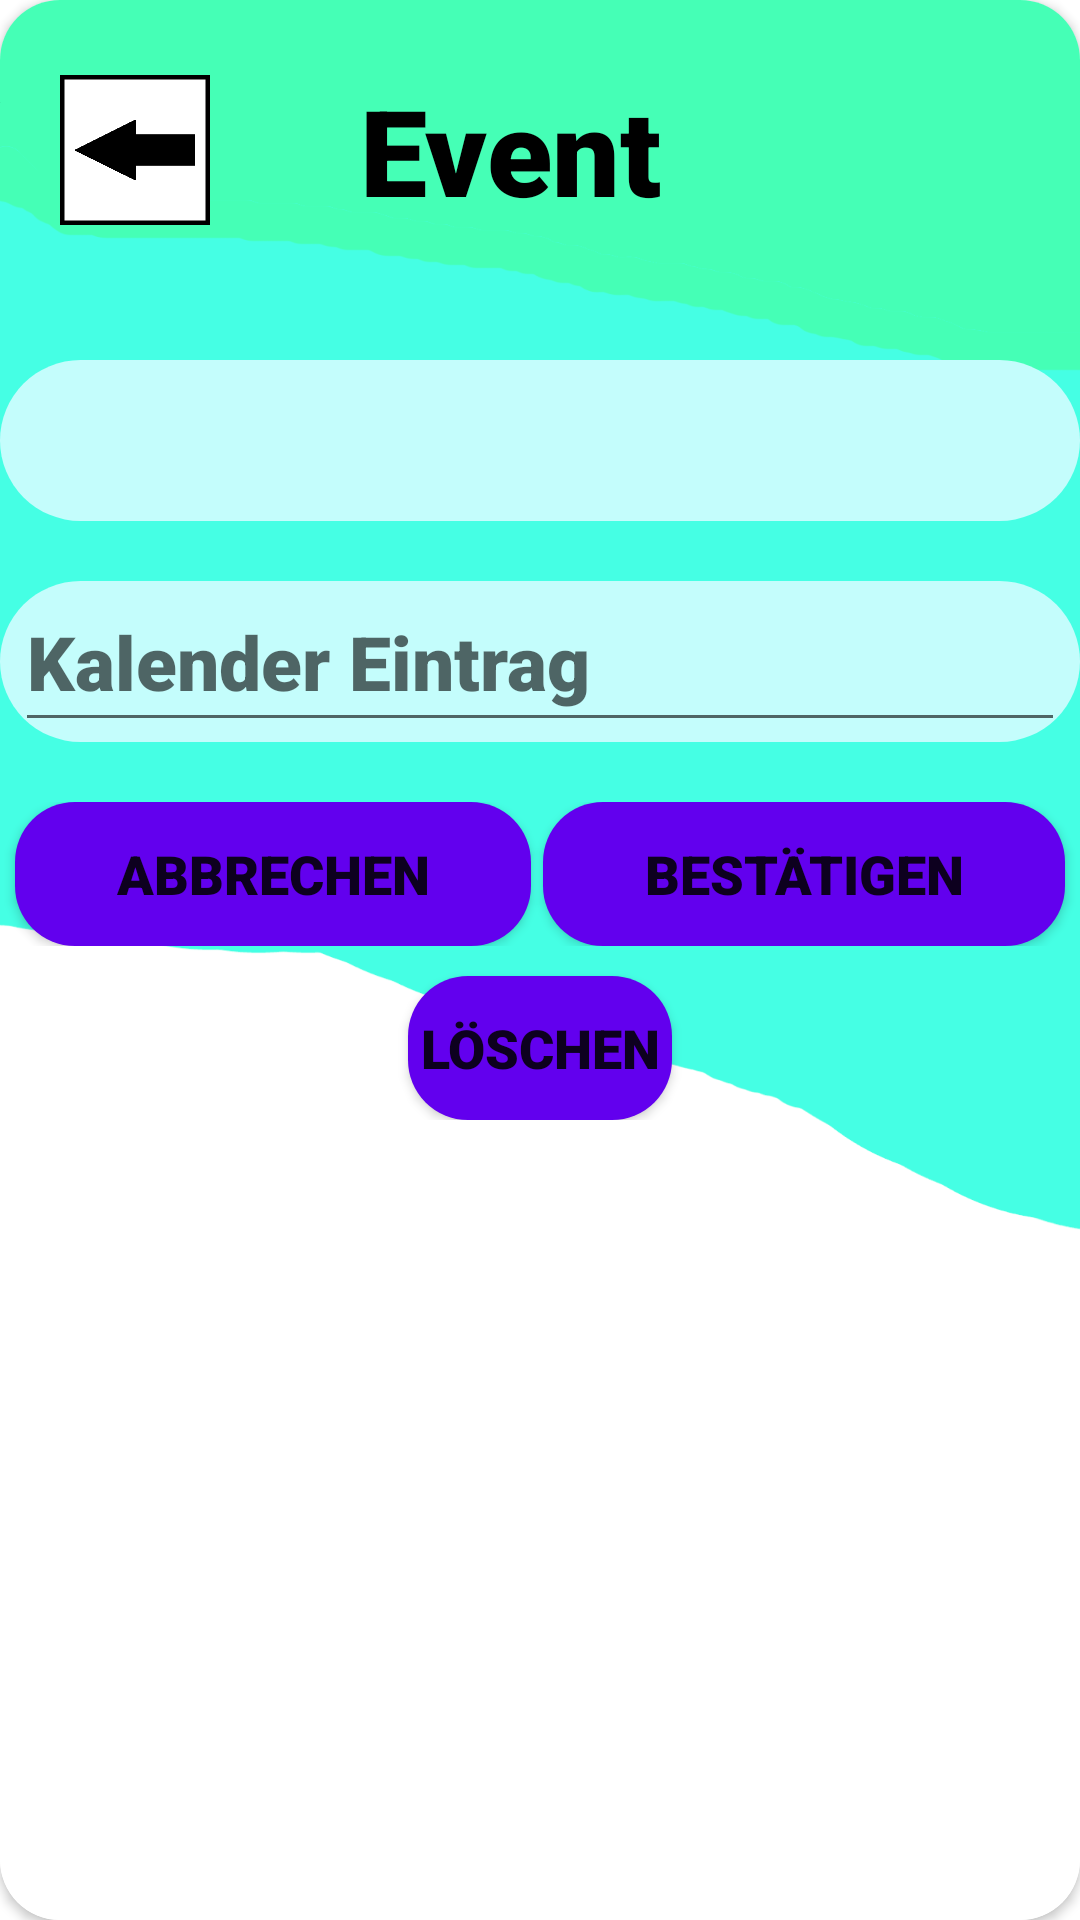

Named icons in this screenshot (1080 x 1920) and their bounding boxes, (left=x1, top=y1, right=x2, bottom=y2):
zurueck: (left=60, top=75, right=210, bottom=225)
